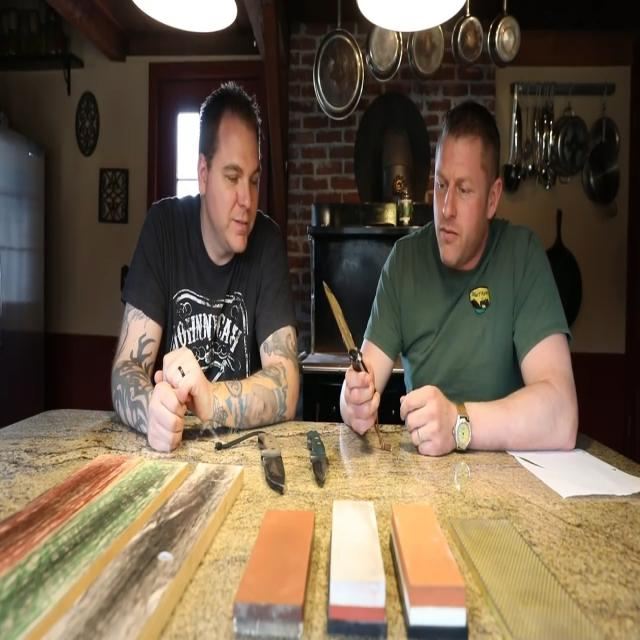knife: (322, 280, 368, 383), (259, 428, 289, 494), (307, 424, 330, 489)
